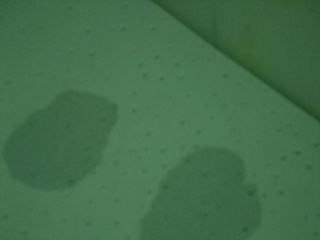Water_detected: (26, 105, 105, 184), (154, 156, 226, 240)
